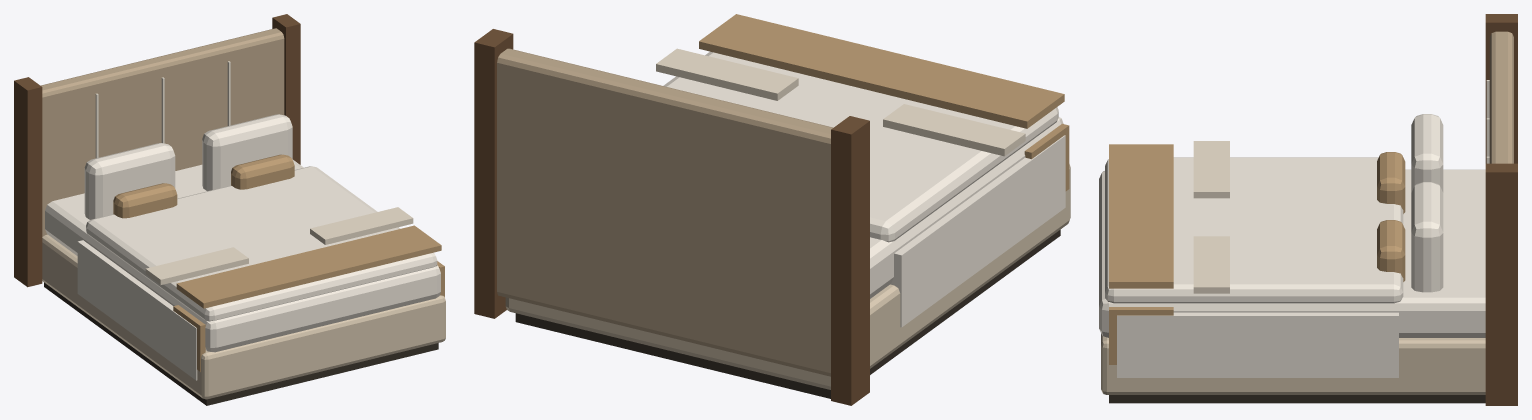
3 views of the same model, side by side, from view 1: azimuth 30°, elevation 25°; view 2: azimuth 150°, elevation 25°; view 3: azimuth 270°, elevation 25° (orthographic). The views are drawn at different scales.
Parts seen in each view (by area): view 1: double-bed; view 2: double-bed; view 3: double-bed.
Part boxes in pixels (bbox=[...]): double-bed: bbox=[14, 14, 445, 405]; double-bed: bbox=[474, 14, 1070, 405]; double-bed: bbox=[1099, 14, 1517, 405].
Size of the model in its own units: 1.86 by 1.33 by 2.08.
